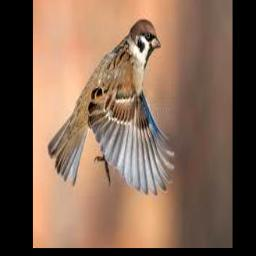Sparrow: (48, 19, 174, 195)
